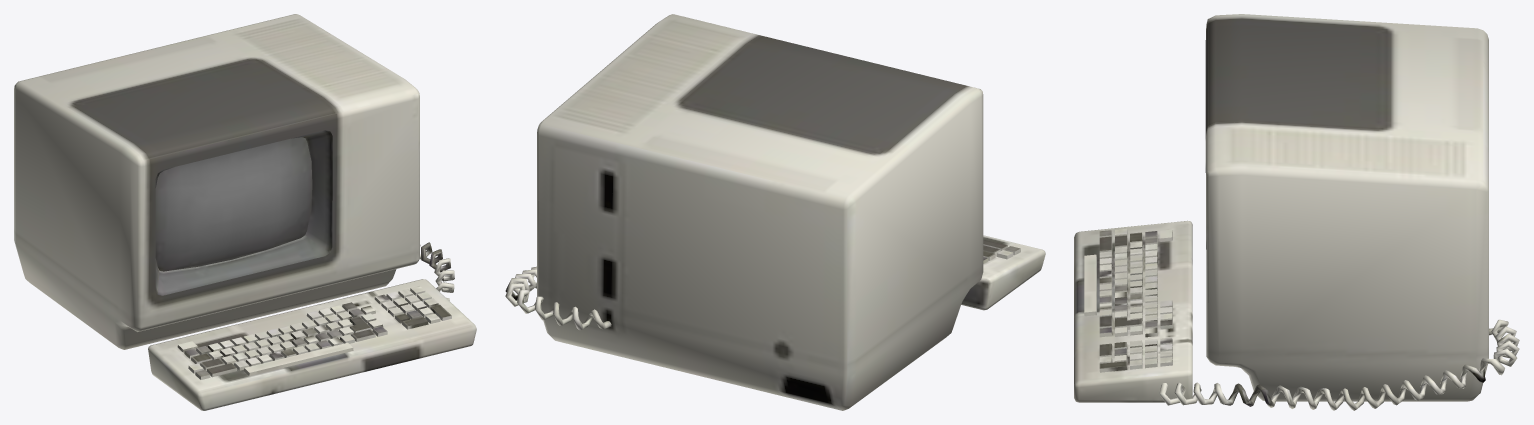
Rendered from vintage-terminal.glb.
3 renders of one model, left to right at view 1: azimuth 30°, elevation 25°; view 2: azimuth 150°, elevation 25°; view 3: azimuth 270°, elevation 25°, orthographic. The views are drawn at different scales.
Parts seen in each view (by area): view 1: low; view 2: low; view 3: low.
Boxes of the visible parts, x1,y1,x2,y2 form: low: [14, 14, 476, 410]; low: [505, 14, 1045, 410]; low: [1074, 14, 1519, 410].
Bounding box in the file's own units: 0.8728 × 0.55 × 0.9241.
Materials: 1 (1 with a texture image).
